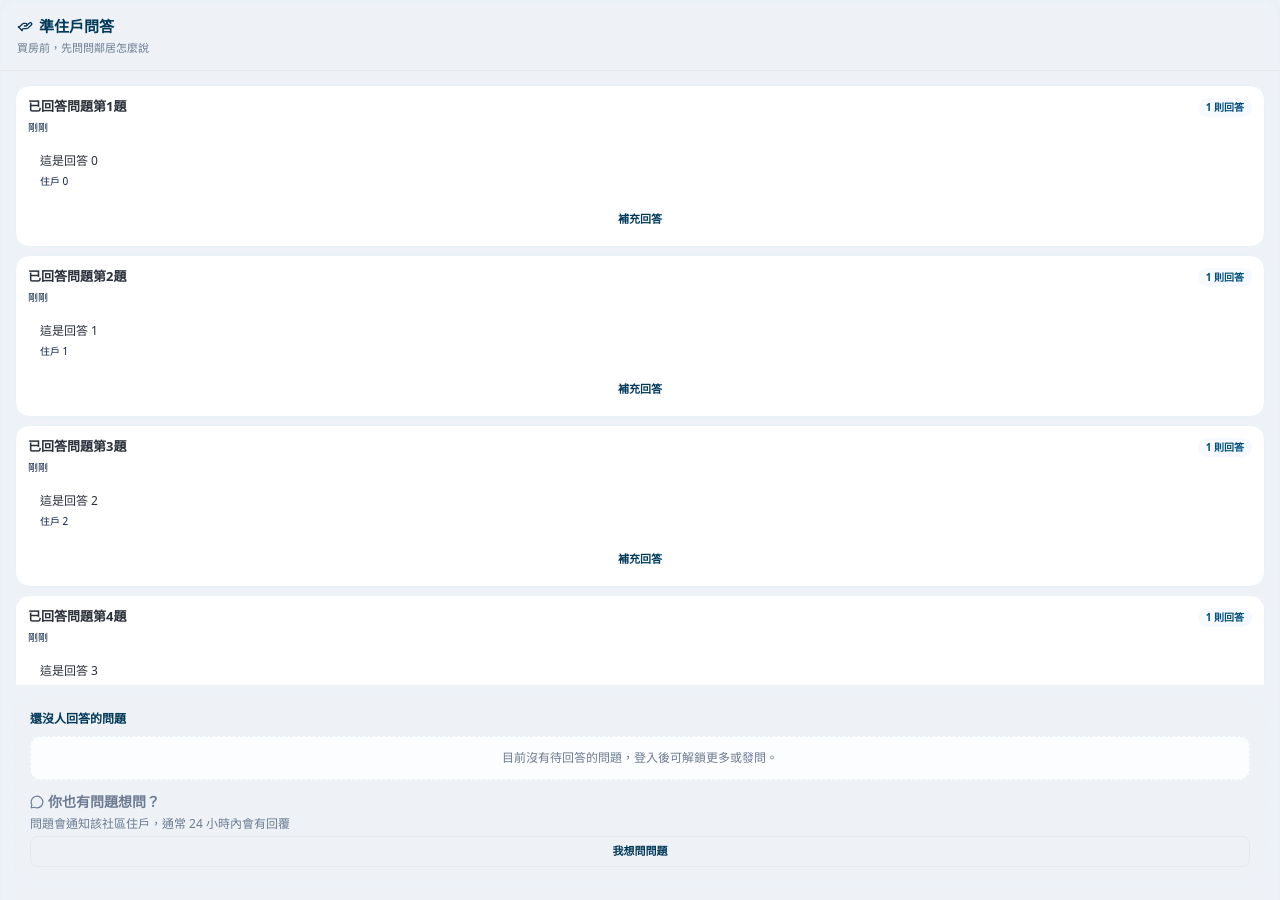
Test: QASection 虛擬化測試 › activeQuestion 狀態測試 › 關閉 modal 後，activeQuestion 應重置
The width and height of the screenshot is (1280, 900).
# 開啟 modal
Click the button "補充回答" below "住戶 0".
click(640, 220)  # box x1=28 y1=205 x2=1252 y2=234
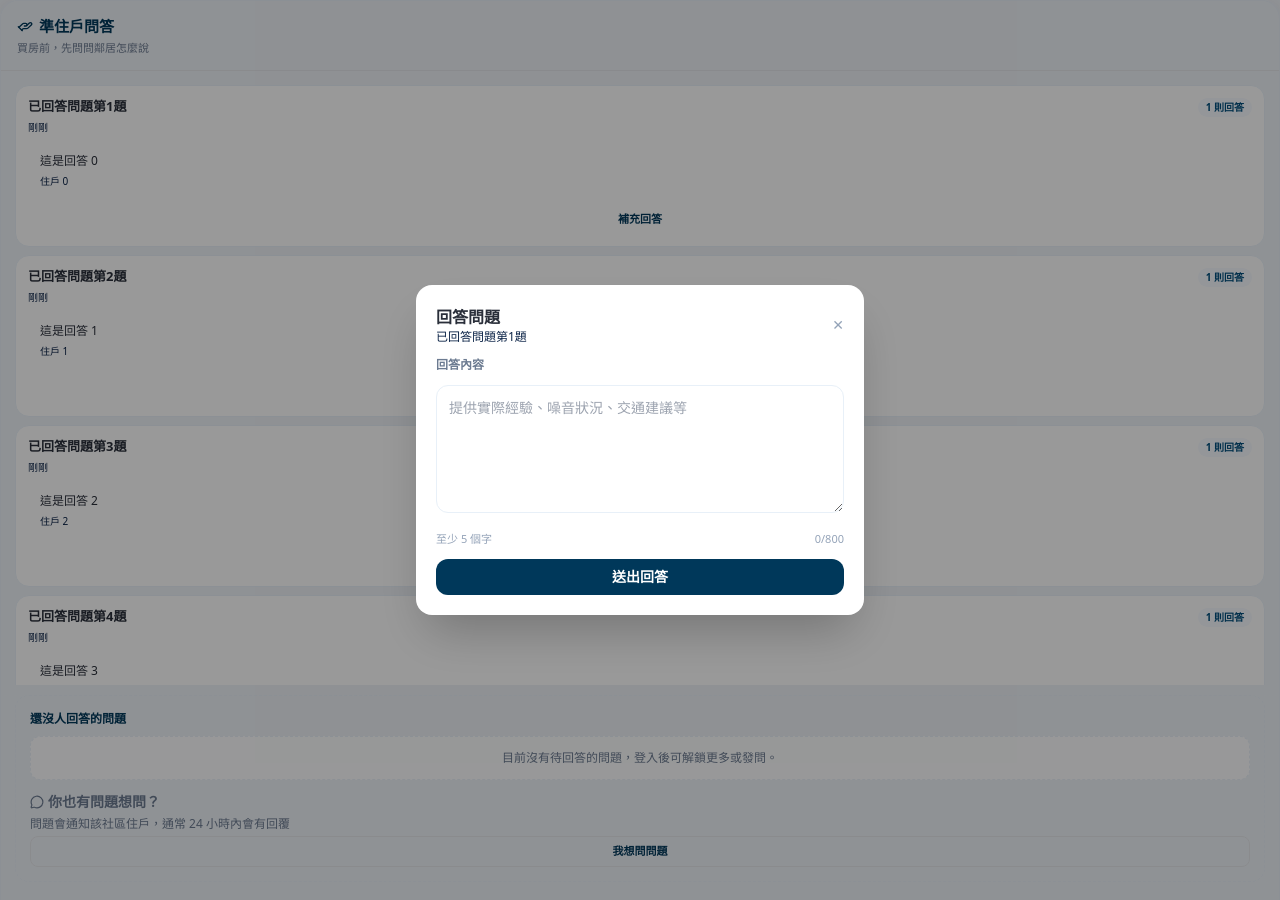
expect the dialog is shown: met, box x1=416 y1=285 x2=864 y2=615
# 關閉 modal
Click the button named "關閉回答視窗".
click(838, 325)  # box x1=832 y1=315 x2=844 y2=335
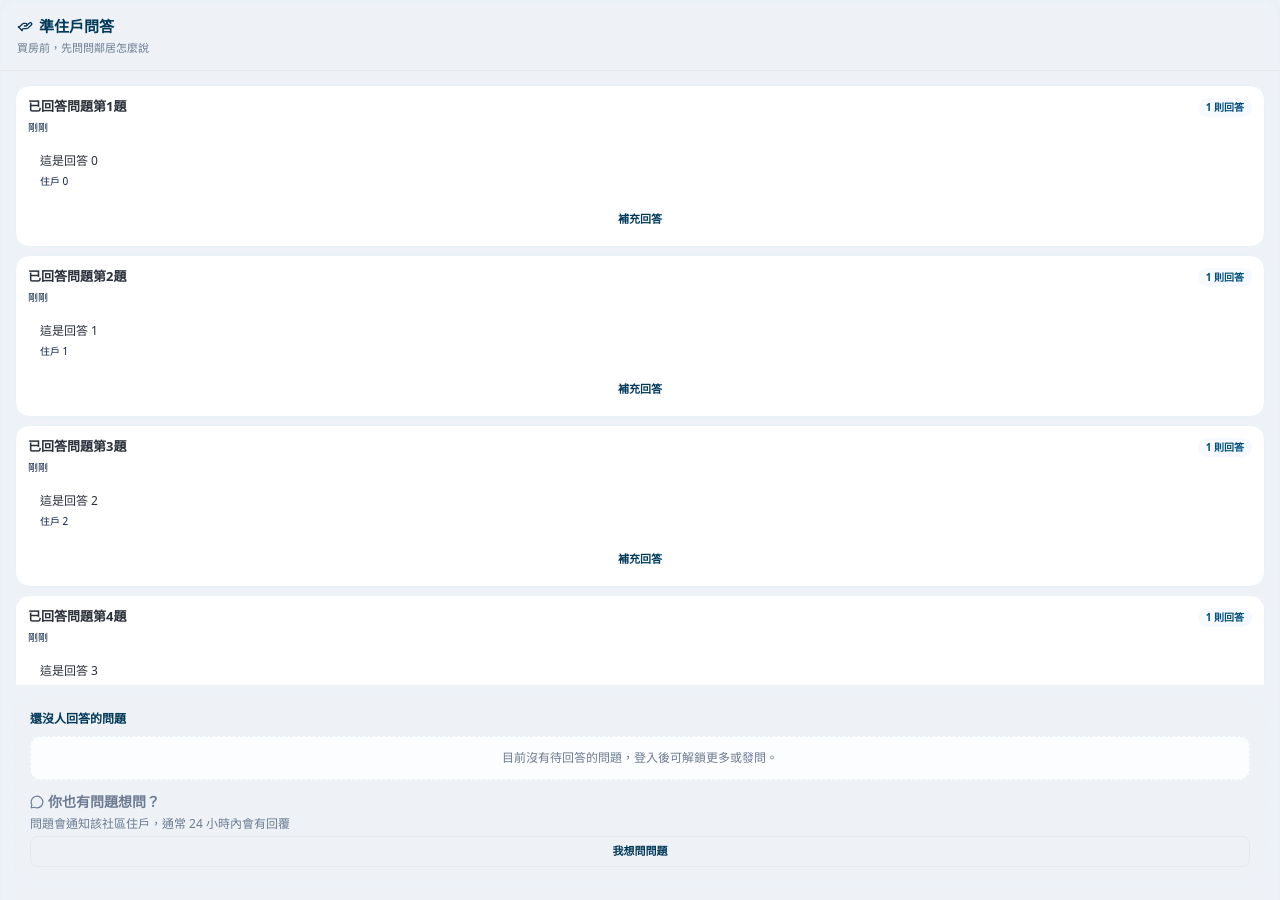
expect the dialog is gone: met
